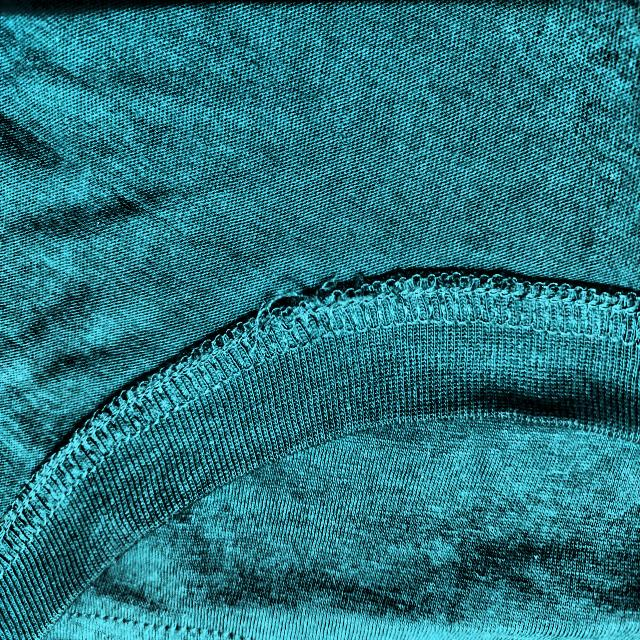Stitch: (217, 248, 417, 382)
